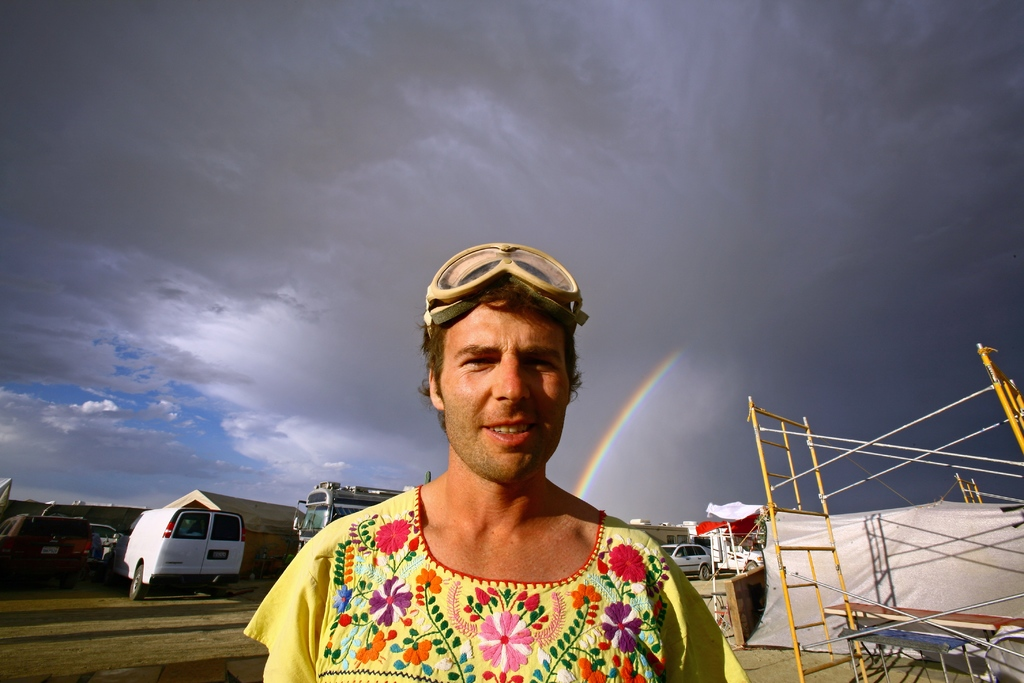cars: (6, 505, 97, 593), (661, 542, 716, 576), (90, 523, 125, 556)
